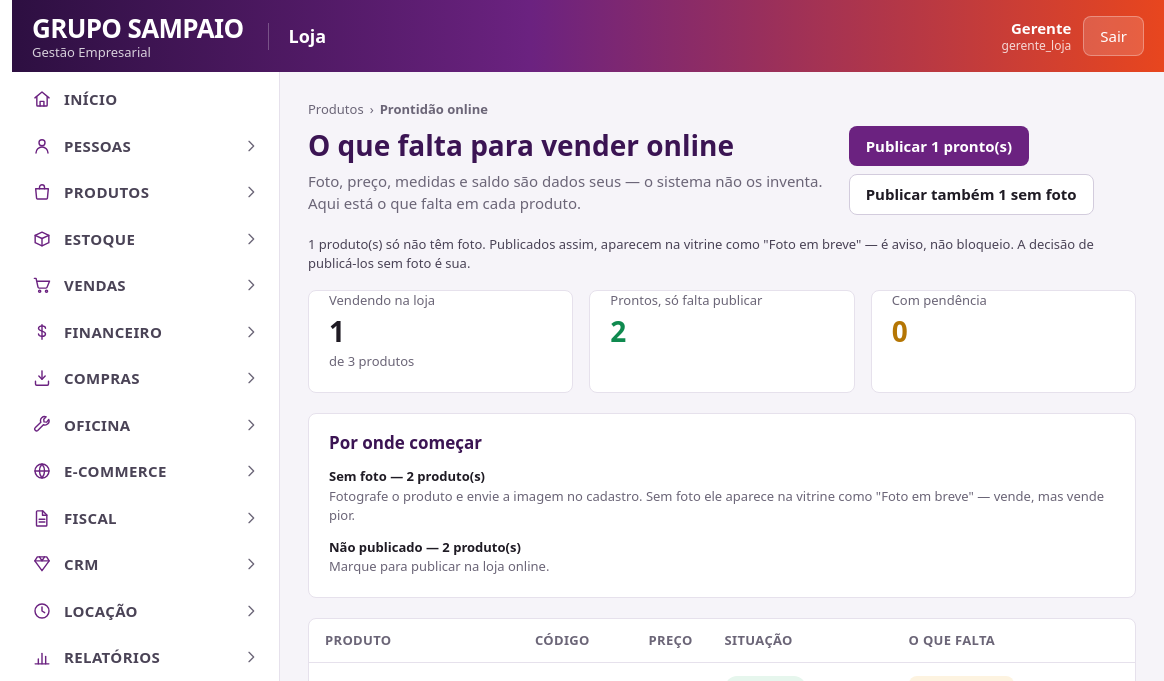
Test: a foto é aviso › o botão principal publica só os completos; o outro diz que leva os sem foto
Check: the button "Publicar também 1 sem foto" is shown, box top-left (849, 174), bottom-right (1094, 214)
Check: the text "só não têm foto" is shown, box top-left (308, 234), bottom-right (1094, 272)
Click the button "Publicar 1 pronto(s)" at (939, 146), box top-left (849, 126), bottom-right (1029, 166)
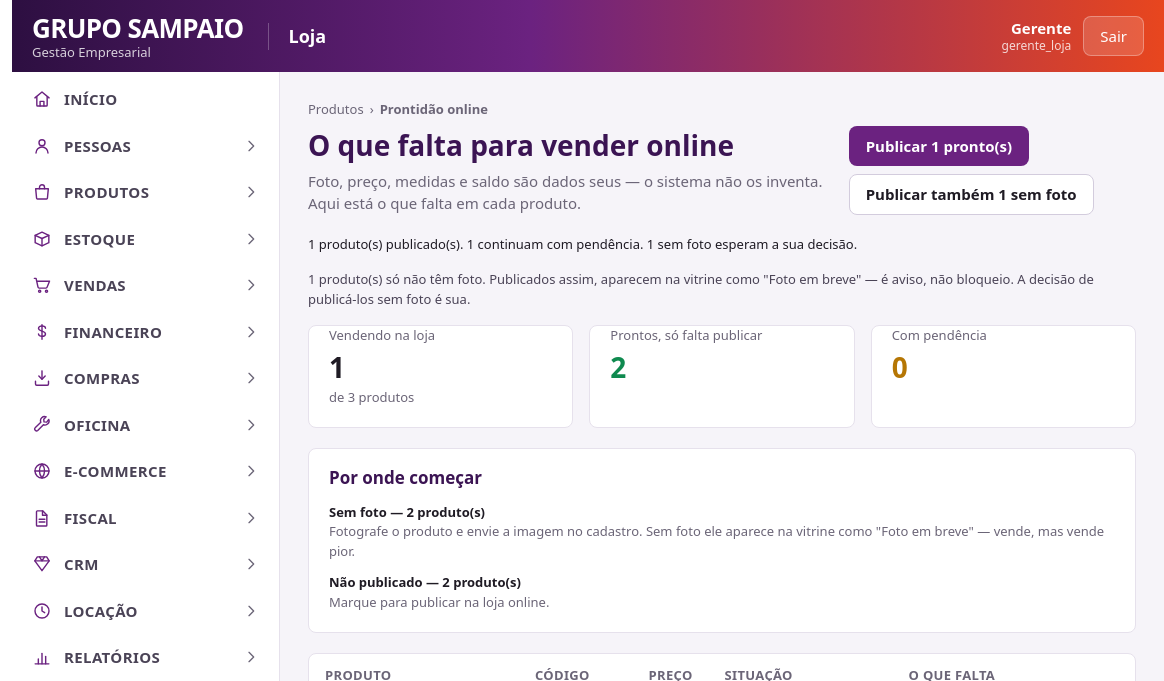
Check: the text "1 sem foto esperam a sua decisão" is shown, box top-left (308, 234), bottom-right (857, 252)
